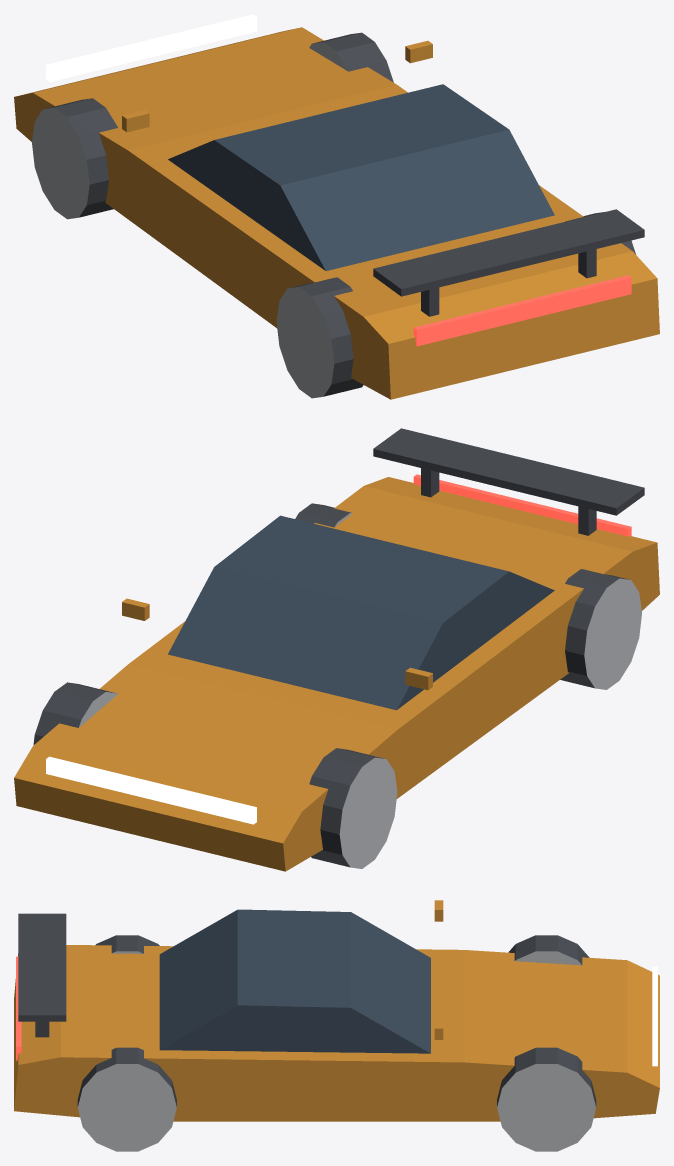
The model's file is sport_orange.glb.
3 renders of one model, top to bottom at view 1: azimuth 30°, elevation 25°; view 2: azimuth 150°, elevation 25°; view 3: azimuth 270°, elevation 25°, orthographic. The views are drawn at different scales.
Visible parts, largest first — view 1: body, cabin, wheel (×3), spoiler, taillights, headlights; view 2: body, cabin, wheel (×4), spoiler, headlights, taillights; view 3: body, cabin, wheel (×4), spoiler, headlights, taillights.
Part boxes in pixels (<box>): body: <box>14,27,659,399</box>; cabin: <box>168,84,554,270</box>; wheel (×3): <box>32,32,393,398</box>; spoiler: <box>373,209,644,296</box>; taillights: <box>413,275,631,346</box>; headlights: <box>46,14,256,81</box>; body: <box>14,477,659,871</box>; cabin: <box>168,515,554,710</box>; wheel (×4): <box>33,503,641,868</box>; spoiler: <box>373,428,644,515</box>; headlights: <box>46,756,256,824</box>; taillights: <box>413,474,631,536</box>; body: <box>14,945,659,1121</box>; cabin: <box>159,909,430,1053</box>; wheel (×4): <box>77,935,596,1151</box>; spoiler: <box>18,913,66,1021</box>; headlights: <box>652,966,657,1066</box>; taillights: <box>16,956,21,1060</box>.
Size of the model in its own units: 2.15 by 1.01 by 4.56.
